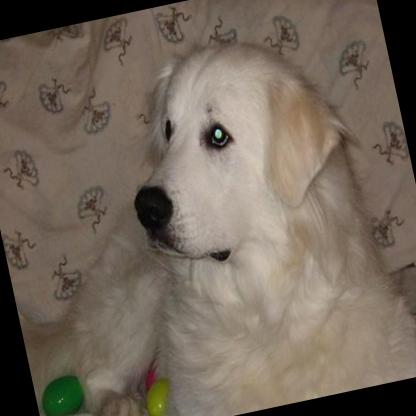Great_Pyrenees: (0, 9, 416, 416)
